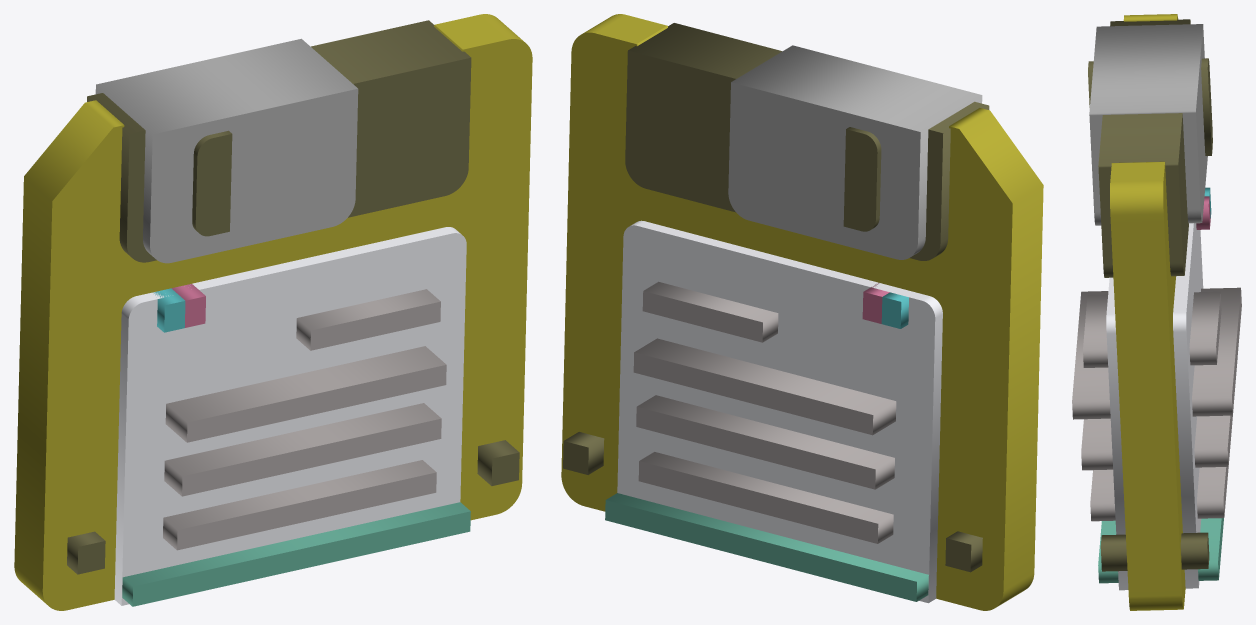
Rendered from floppy.glb.
3 renders of one model, left to right at view 1: azimuth 30°, elevation 25°; view 2: azimuth 150°, elevation 25°; view 3: azimuth 270°, elevation 25°, orthographic. The views are drawn at different scales.
Visible parts, largest first — view 1: Curve, Curve.004, Curve.003, Curve.001, Curve.006, Curve.009, Curve.007, Curve.008, Curve.005, Curve.015, Curve.010, Curve.011 (+2 smaller); view 2: Curve, Curve.004, Curve.003, Curve.001, Curve.006, Curve.009, Curve.007, Curve.008, Curve.005, Curve.015, Curve.010, Curve.011 (+2 smaller); view 3: Curve, Curve.003, Curve.004, Curve.001, Curve.006, Curve.005, Curve.007, Curve.008, Curve.010, Curve.009, Curve.015, Curve.012.
Boxes of the visible parts, x1,y1,x2,y2 form: Curve: [14, 14, 532, 610]; Curve.004: [114, 227, 466, 605]; Curve.003: [95, 38, 358, 263]; Curve.001: [87, 20, 471, 262]; Curve.006: [165, 346, 446, 442]; Curve.009: [122, 502, 470, 606]; Curve.007: [164, 403, 441, 496]; Curve.008: [163, 460, 436, 550]; Curve.005: [296, 289, 440, 350]; Curve.015: [192, 130, 232, 236]; Curve.010: [477, 440, 519, 485]; Curve.011: [67, 531, 105, 574]; Curve: [561, 14, 1043, 610]; Curve.004: [617, 220, 942, 603]; Curve.003: [728, 45, 982, 259]; Curve.001: [625, 23, 989, 260]; Curve.006: [633, 338, 896, 435]; Curve.009: [605, 493, 928, 601]; Curve.007: [636, 395, 894, 489]; Curve.008: [638, 452, 893, 543]; Curve.005: [642, 281, 778, 342]; Curve.015: [843, 127, 881, 231]; Curve.010: [563, 432, 604, 474]; Curve.011: [945, 531, 982, 572]; Curve: [1110, 14, 1185, 610]; Curve.003: [1089, 24, 1207, 225]; Curve.004: [1106, 223, 1203, 590]; Curve.001: [1098, 19, 1190, 277]; Curve.006: [1072, 287, 1241, 419]; Curve.005: [1083, 291, 1221, 367]; Curve.007: [1081, 359, 1237, 470]; Curve.008: [1090, 408, 1233, 521]; Curve.010: [1100, 532, 1209, 571]; Curve.009: [1098, 518, 1223, 583]; Curve.015: [1088, 58, 1212, 155]; Curve.012: [1196, 196, 1210, 229].
Bounding box in the file's own units: 3.12 × 3.09 × 1.11.
